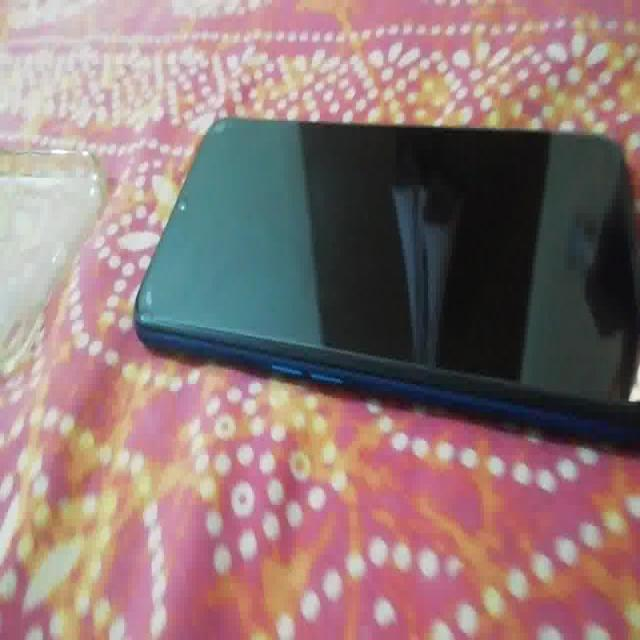Phone: (132, 114, 640, 450)
